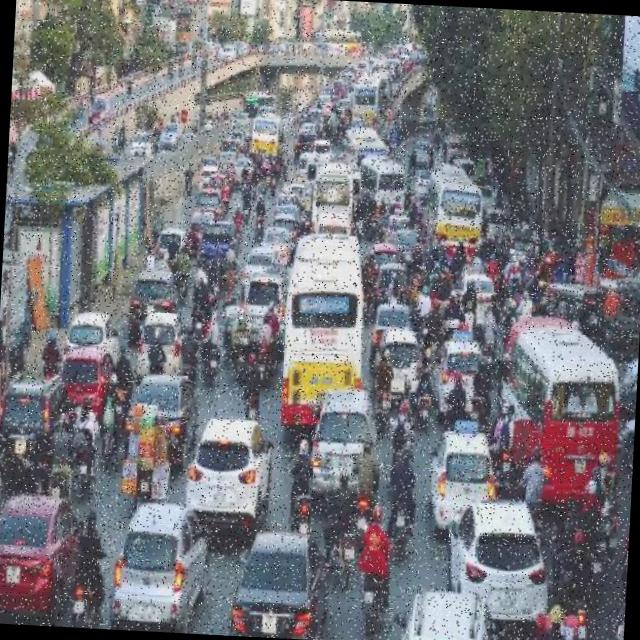LicensePlate: (496, 584, 520, 620), (206, 486, 233, 513), (329, 450, 354, 476), (392, 364, 410, 394), (258, 616, 282, 638), (135, 601, 154, 627), (570, 451, 588, 478), (296, 517, 314, 543), (70, 597, 89, 620), (357, 585, 374, 608), (316, 392, 330, 412), (15, 436, 28, 456), (145, 302, 157, 316), (478, 300, 487, 316), (256, 316, 266, 328), (460, 378, 470, 388), (518, 254, 526, 266), (405, 252, 413, 262), (495, 226, 501, 236)
